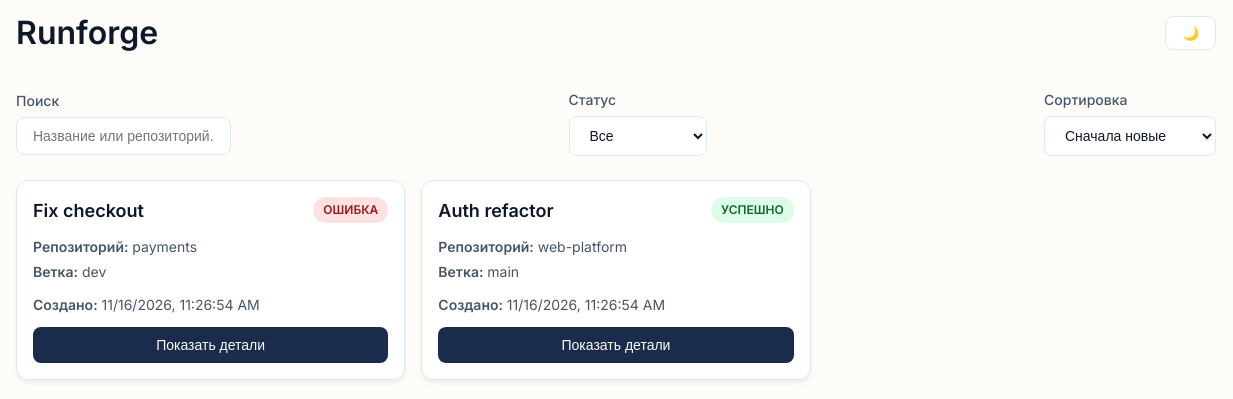
Runforge Dashboard › должен фильтровать список по статусу
The image size is (1233, 399).
Expected: the heading "Auth refactor" is shown, x1=438 y1=197 x2=554 y2=224
Expected: the heading "Fix checkout" is shown, x1=33 y1=197 x2=144 y2=224
Select "Успешные" in the dropdown labelled "Статус" at [638, 136], box x1=568 y1=116 x2=706 y2=156
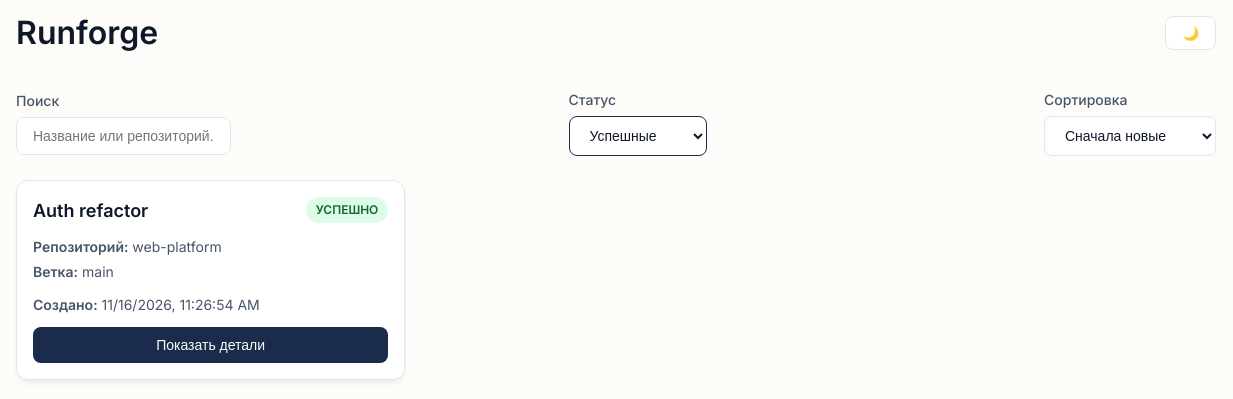
Expected: the heading "Auth refactor" is shown, x1=33 y1=197 x2=148 y2=224
Expected: the heading "Fix checkout" is gone
